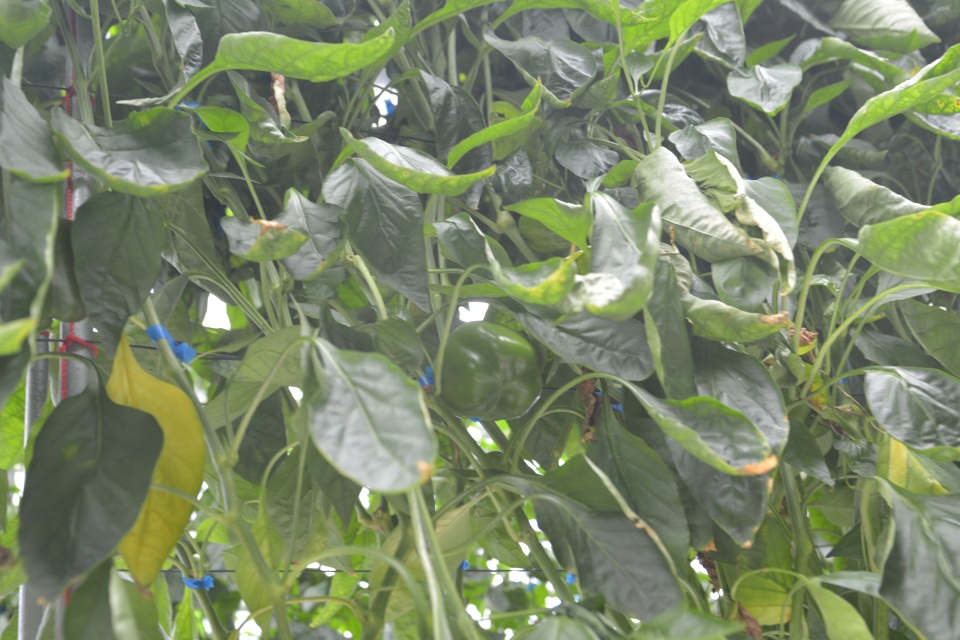fruit: (439, 317, 545, 422)
